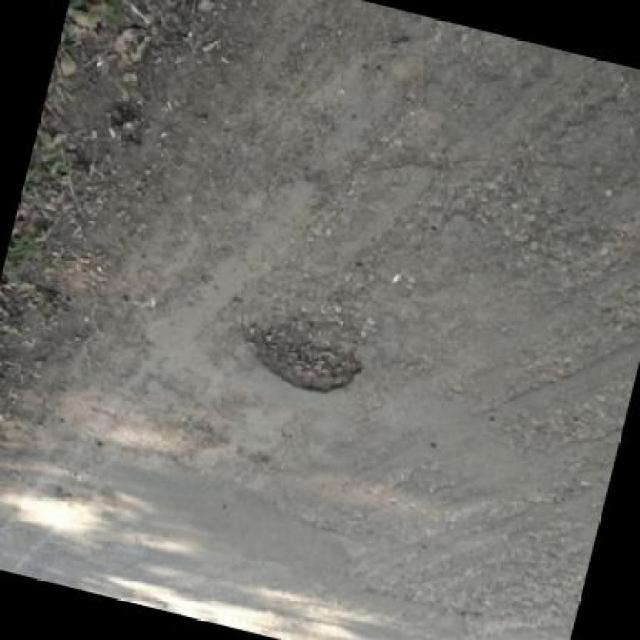pothole1: (224, 307, 370, 408)
